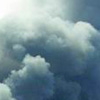smoke: (3, 7, 99, 99)
